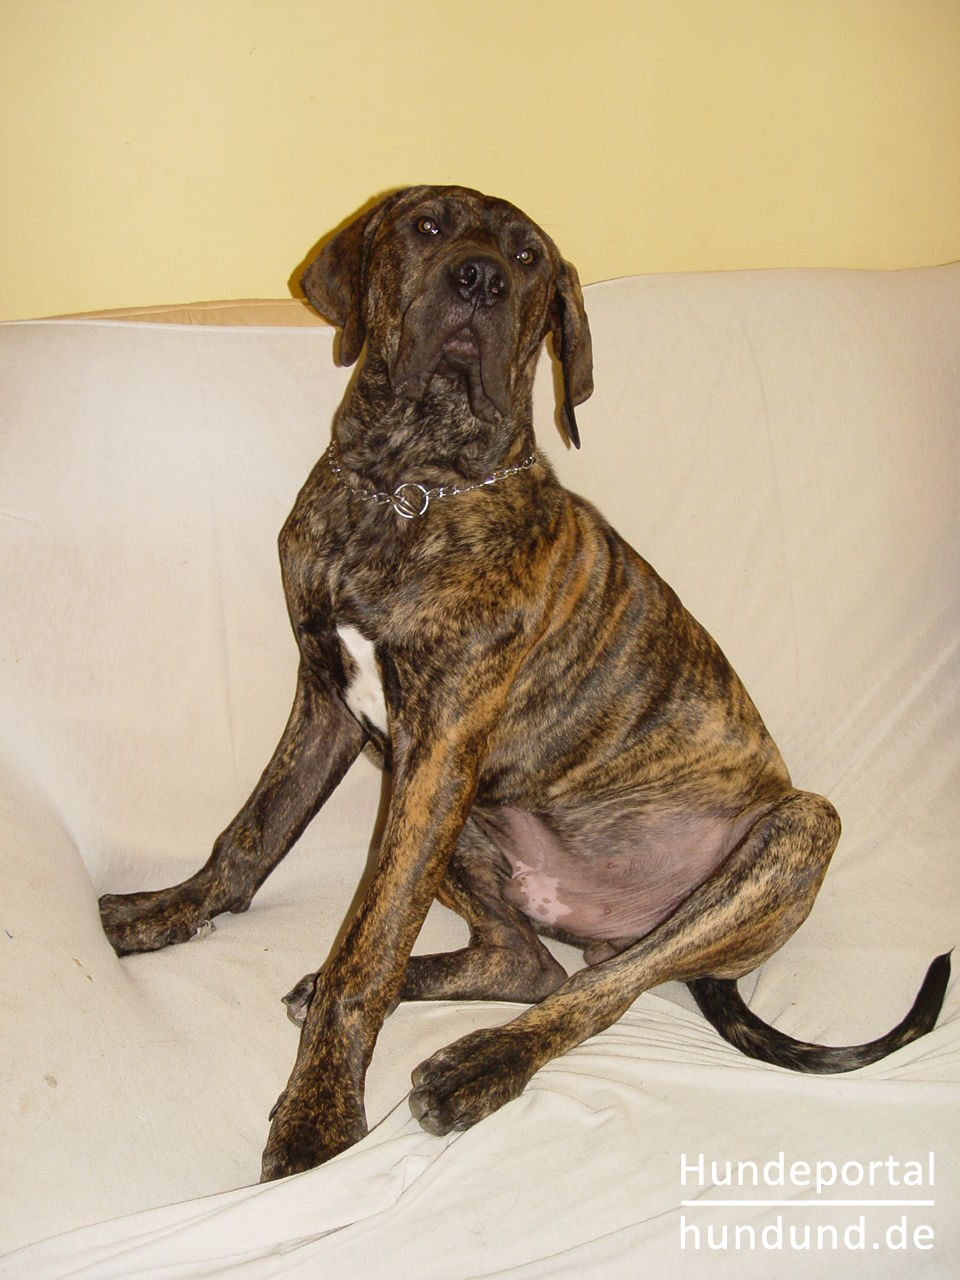fila_brasileiro: (97, 184, 954, 1181)
